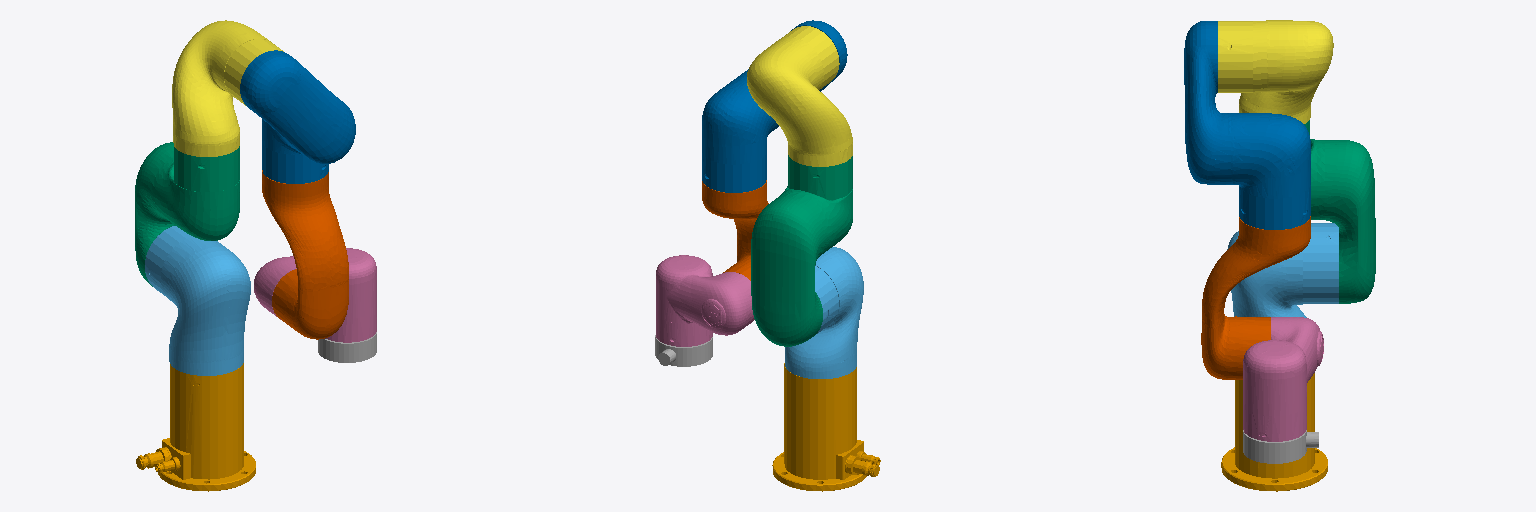
URDF robot description (xarm7):
<?xml version="1.0" ?>
<robot name="xarm7">
   <link name="link_base">
      <inertial>
         <origin xyz="-0.021131 -0.0016302 0.056488" rpy="0.44023105215876746 -0.1301362535007946 1.5177281818052935"/>
         <mass value="0.88556"/>
         <inertia ixx="0.00382023" iyy="0.00335282" izz="0.00167725" ixy="0" ixz="0" iyz="0"/>
      </inertial>
      <visual name="link_base">
         <origin xyz="-0.002330920659259287 7.635029826604813e-05 0.06466085765451927" rpy="0.051864352546477366 -0.00040942535987054107 1.5199482510605278"/>
         <geometry>
            <mesh filename="internavi/assets/assets/xarm7/link_base.stl"/>
         </geometry>
      </visual>
      <collision>
         <origin xyz="-0.002330920659259287 7.635029826604813e-05 0.06466085765451927" rpy="0.051864352546477366 -0.00040942535987054107 1.5199482510605278"/>
         <geometry>
            <mesh filename="internavi/assets/assets/xarm7/link_base.stl"/>
         </geometry>
      </collision>
   </link>
   
   <link name="link1">
      <inertial>
         <origin xyz="-0.0002 0.02905 -0.01233" rpy="-0.4080989784149497 -0.017863810427217963 -0.04272503237136302"/>
         <mass value="2.382"/>
         <inertia ixx="0.00569127" iyy="0.00533384" izz="0.00293865" ixy="0" ixz="0" iyz="0"/>
      </inertial>
      <visual name="link1">
         <origin xyz="-0.0001418553332473717 0.0074638475848720935 -0.02711420915765274" rpy="-0.3335973180073475 0.0043034379640525255 -0.0013704267832475303"/>
         <geometry>
            <mesh filename="internavi/assets/assets/xarm7/link1.stl"/>
         </geometry>
      </visual>
      <collision>
         <origin xyz="-0.0001418553332473717 0.0074638475848720935 -0.02711420915765274" rpy="-0.3335973180073475 0.0043034379640525255 -0.0013704267832475303"/>
         <geometry>
            <mesh filename="internavi/assets/assets/xarm7/link1.stl"/>
         </geometry>
      </collision>
   </link>

   <joint type="revolute" name="joint1">
      <parent link="link_base"/>
      <child link="link1"/>
      <origin xyz="0.0 0.0 0.267" rpy="0.0 0.0 0.0"/>
      <axis xyz="0.0 0.0 1.0"/>
      <limit lower="-6.28319" upper="6.28319" effort="50" velocity="3.14"/>
      <dynamics damping="10" friction="1"/>
   </joint>

   <link name="link2">
      <inertial>
         <origin xyz="0.00022 -0.12856 0.01735" rpy="2.089839775631659 -0.01617916364415617 -0.008620557950960617"/>
         <mass value="1.869"/>
         <inertia ixx="0.00959898" iyy="0.00937717" izz="0.00201315" ixy="0" ixz="0" iyz="0"/>
      </inertial>
      <visual name="link2">
         <origin xyz="-8.518079249929592e-05 -0.09124548913785831 0.04845536801044918" rpy="2.1639536091838565 -0.0020726553325203234 -0.001633118583858506"/>
         <geometry>
            <mesh filename="internavi/assets/assets/xarm7/link2.stl"/>
         </geometry>
      </visual>
      <collision>
         <origin xyz="-8.518079249929592e-05 -0.09124548913785831 0.04845536801044918" rpy="2.1639536091838565 -0.0020726553325203234 -0.001633118583858506"/>
         <geometry>
            <mesh filename="internavi/assets/assets/xarm7/link2.stl"/>
         </geometry>
      </collision>
   </link>
   
   <joint type="revolute" name="joint2">
      <parent link="link1"/>
      <child link="link2"/>
      <origin xyz="0.0 0.0 0.0" rpy="-1.5707963267948957 0.0 0.0"/>
      <axis xyz="0.0 0.0 1.0"/>
      <limit lower="-2.059" upper="2.0944" effort="50" velocity="3.14"/>
      <dynamics damping="10" friction="1"/>
   </joint>
   
   <link name="link3">
      <inertial>
         <origin xyz="0.0466 -0.02463 -0.00768" rpy="0.6444127540677473 0.5687517069246195 0.10346249911406036"/>
         <mass value="1.6383"/>
         <inertia ixx="0.00351721" iyy="0.00294089" izz="0.00195868" ixy="0" ixz="0" iyz="0"/>
      </inertial>
      <visual name="link3">
         <origin xyz="0.03116049140567881 0.0020180908913441306 -0.022566212798909326" rpy="0.40910176908308016 0.6031276066359279 0.26148088250700474"/>
         <geometry>
            <mesh filename="internavi/assets/assets/xarm7/link3.stl"/>
         </geometry>
      </visual>
      <collision>
         <origin xyz="0.03116049140567881 0.0020180908913441306 -0.022566212798909326" rpy="0.40910176908308016 0.6031276066359279 0.26148088250700474"/>
         <geometry>
            <mesh filename="internavi/assets/assets/xarm7/link3.stl"/>
         </geometry>
      </collision>
   </link>
   
   <joint type="revolute" name="joint3">
      <parent link="link2"/>
      <child link="link3"/>
      <origin xyz="0.0 -0.293 0.0" rpy="1.5707963267948963 0.0 0.0"/>
      <axis xyz="0.0 0.0 1.0"/>
      <limit lower="-6.28319" upper="6.28319" effort="30" velocity="3.14"/>
      <dynamics damping="5" friction="1"/>
   </joint>
   
   <link name="link4">
      <inertial>
         <origin xyz="0.07047 -0.11575 0.012" rpy="2.211979235177638 -0.629020395199348 0.029707593805708754"/>
         <mass value="1.7269"/>
         <inertia ixx="0.00657137" iyy="0.00647948" izz="0.00186763" ixy="0" ixz="0" iyz="0"/>
      </inertial>
      <visual name="link4">
         <origin xyz="0.05894856993202059 -0.07610492940771568 0.04029048800181529" rpy="2.138364865984172 0.1740691355031294 0.6641344305654312"/>
         <geometry>
            <mesh filename="internavi/assets/assets/xarm7/link4.stl"/>
         </geometry>
      </visual>
      <collision>
         <origin xyz="0.05894856993202059 -0.07610492940771568 0.04029048800181529" rpy="2.138364865984172 0.1740691355031294 0.6641344305654312"/>
         <geometry>
            <mesh filename="internavi/assets/assets/xarm7/link4.stl"/>
         </geometry>
      </collision>
   </link>
   
   <joint type="revolute" name="joint4">
      <parent link="link3"/>
      <child link="link4"/>
      <origin xyz="0.0525 0.0 0.0" rpy="1.5707963267948963 0.0 0.0"/>
      <axis xyz="0.0 0.0 1.0"/>
      <limit lower="-0.19198" upper="3.927" effort="30" velocity="3.14"/>
      <dynamics damping="5" friction="1"/>
   </joint>

   <link name="link5">
      <inertial>
         <origin xyz="-0.00032 0.01604 -0.026" rpy="-0.060862747127358625 0.002444739360476511 0.042364854361127045"/>
         <mass value="1.3203"/>
         <inertia ixx="0.00534729" iyy="0.00499076" izz="0.0013489" ixy="0" ixz="0" iyz="0"/>
      </inertial>
      <visual name="link5">
         <origin xyz="-0.0001655187184941466 0.0317918270067044 -0.07229184425357928" rpy="-0.2898391281315331 0.0037330573805807177 0.016070437312645958"/>
         <geometry>
            <mesh filename="internavi/assets/assets/xarm7/link5.stl"/>
         </geometry> 
      </visual>
      <collision>
         <origin xyz="-0.0001655187184941466 0.0317918270067044 -0.07229184425357928" rpy="-0.2898391281315331 0.0037330573805807177 0.016070437312645958"/>
         <geometry>
            <mesh filename="internavi/assets/assets/xarm7/link5.stl"/>
         </geometry>
      </collision>
   </link>
   <joint type="revolute" name="joint5">
      <parent link="link4"/>
      <child link="link5"/>
      <origin xyz="0.0775 -0.3425 0.0" rpy="1.5707963267948963 0.0 0.0"/>
      <axis xyz="0.0 0.0 1.0"/>
      <limit lower="-6.28319" upper="6.28319" effort="30" velocity="3.14"/>
      <dynamics damping="5" friction="1"/>
   </joint>

   <link name="link6">
      <inertial>
         <origin xyz="0.06469 0.03278 0.02141" rpy="-2.5954348069975257 -1.278629910190865 0.0043130309212413565"/>
         <mass value="1.325"/>
         <inertia ixx="0.00245421" iyy="0.00221646" izz="0.00107273" ixy="0" ixz="0" iyz="0"/>
      </inertial>
      <visual name="link6">
         <origin xyz="0.04899680629282065 0.011248594145888224 0.009047722000570012" rpy="-2.928036193060328 -1.2794502935065157 0.08501521097360687"/>
         <geometry>
            <mesh filename="internavi/assets/assets/xarm7/link6.stl"/>
         </geometry> 
      </visual>
      <collision>
         <origin xyz="0.04899680629282065 0.011248594145888224 0.009047722000570012" rpy="-2.928036193060328 -1.2794502935065157 0.08501521097360687"/>
         <geometry>
            <mesh filename="internavi/assets/assets/xarm7/link6.stl"/>
         </geometry>
      </collision>
   </link>
   <joint type="revolute" name="joint6">
      <parent link="link5"/>
      <child link="link6"/>
      <origin xyz="0.0 0.0 0.0" rpy="1.5707963267948963 0.0 0.0"/>
      <axis xyz="0.0 0.0 1.0"/>
      <limit lower="-1.69297" upper="3.14159" effort="20" velocity="3.14"/>
      <dynamics damping="2" friction="1"/>
   </joint>

   <link name="link7">
      <inertial>
         <origin xyz="0.0 -0.00677 -0.01098" rpy="3.141592653589793 -1.521839417373044 -1.5707963267948966"/>
         <mass value="0.17"/>
         <inertia ixx="0.000132176" iyy="9.3e-05" izz="5.85236e-05" ixy="0" ixz="0" iyz="0"/>
      </inertial>
      <visual name="end_tool">
         <origin xyz="3.414990570124057e-08 -0.0014353044722618057 -0.013516014737403683" rpy="3.141592653589793 -1.5687955761878776 -1.5707963267948966"/>
         <geometry>
            <mesh filename="internavi/assets/assets/xarm7/end_tool.stl"/>
         </geometry>
      </visual>
      <collision>
         <origin xyz="3.414990570124057e-08 -0.0014353044722618057 -0.013516014737403683" rpy="3.141592653589793 -1.5687955761878776 -1.5707963267948966"/>
         <geometry>
            <mesh filename="internavi/assets/assets/xarm7/end_tool.stl"/>
         </geometry>
      </collision>
   </link>

   <joint type="revolute" name="joint7">
      <parent link="link6"/>
      <child link="link7"/>
      <origin xyz="0.076 0.097 0.0" rpy="-1.5707963267948957 0.0 0.0"/>
      <axis xyz="0.0 0.0 1.0"/>
      <limit lower="-6.28319" upper="6.28319" effort="20" velocity="3.14"/>
      <dynamics damping="2" friction="1"/>
   </joint>

   <link name="tcp"/>

   <joint name="joint_tcp" type="fixed">
      <origin xyz="0 0 0.172" rpy="0 0 0"/>  
      <parent link="xarm_gripper_base_link"/>
      <child link="tcp"/>
   </joint>

   <!-- from https://github.com/xArm-Developer/xarm_ros/blob/master/xarm_description/urdf/gripper/xarm_gripper.urdf.xacro -->
   <!-- XArm Gripper Start -->
   <link name="xarm_gripper_base_link">
      <inertial>
         <origin xyz="-0.00065489 -0.0018497 0.048028" rpy="0 0 0"/>
         <mass value="0.54156"/>
         <inertia ixx="0.00047106" ixy="3.9292E-07" ixz="2.6537E-06" iyy="0.00033072" iyz="-1.0975E-05" izz="0.00025642"/>
      </inertial>
      <visual>
         <origin xyz="0 0 0" rpy="0 0 0"/>
         <geometry>
            <mesh filename="internavi/assets/assets/xarm7/base_link.stl"/>
         </geometry>
         <material name="White">
            <color rgba="1.0 1.0 1.0 1.0"/>
         </material>
      </visual>
      <collision>
         <origin xyz="0 0 0" rpy="0 0 0"/>
         <geometry>
            <mesh filename="internavi/assets/assets/xarm7/base_link.stl"/>
         </geometry>
      </collision>
   </link>

   <joint name="gripper_fix" type="fixed">
      <parent link="link7"/>
      <child link="xarm_gripper_base_link"/>
      <origin xyz="0 0 0" rpy="0 0 0"/>
   </joint>

   <link name="left_outer_knuckle">
      <inertial>
         <origin xyz="2.9948E-14 0.021559 0.015181" rpy="0 0 0"/>
         <mass value="0.033618"/>
         <inertia ixx="1.9111E-05" ixy="-1.8803E-17" ixz="-1.1002E-17" iyy="6.6256E-06" iyz="-7.3008E-06" izz="1.3185E-05"/>
      </inertial>
      <visual>
         <origin xyz="0 0 0" rpy="0 0 0"/>
         <geometry>
            <mesh filename="internavi/assets/assets/xarm7/left_outer_knuckle.stl"/>
         </geometry>
         <material name="Silver">
            <color rgba="0.753 0.753 0.753 1.0"/>
         </material>
      </visual>
      <collision>
         <origin xyz="0 0 0" rpy="0 0 0"/>
         <geometry>
            <mesh filename="internavi/assets/assets/xarm7/left_outer_knuckle.stl"/>
         </geometry>
      </collision>
   </link>

   <link name="left_finger">
      <inertial>
         <origin xyz="-2.4536E-14 -0.016413 0.029258" rpy="0 0 0"/>
         <mass value="0.048304"/>
         <inertia ixx="1.7493E-05" ixy="-4.2156E-19" ixz="6.9164E-18" iyy="1.7225E-05" iyz="4.6433E-06" izz="5.1466E-06"/>
      </inertial>
      <visual>
         <origin xyz="0 0 0" rpy="0 0 0"/>
         <geometry>
            <mesh filename="internavi/assets/assets/xarm7/left_finger.stl"/>
         </geometry>
         <material name="Silver">
            <color rgba="0.753 0.753 0.753 1.0"/>
         </material>
      </visual>
      <collision>
         <origin xyz="0 0 0" rpy="0 0 0"/>
         <geometry>
            <mesh filename="internavi/assets/assets/xarm7/left_finger.stl"/>
         </geometry>
      </collision>
   </link>

   <link name="left_inner_knuckle">
      <inertial>
         <origin xyz="1.866E-06 0.022047 0.026133" rpy="0 0 0"/>
         <mass value="0.023013"/>
         <inertia ixx="6.0949E-06" ixy="6.0665E-11" ixz="7.191E-11" iyy="6.0197E-06" iyz="-2.7531E-06" izz="5.0784E-06"/>
      </inertial>
      <visual>
         <origin xyz="0 0 0" rpy="0 0 0"/>
         <geometry>
            <mesh filename="internavi/assets/assets/xarm7/left_inner_knuckle.stl"/>
         </geometry>
         <material name="Silver">
            <color rgba="0.753 0.753 0.753 1.0"/>
         </material>
      </visual>
      <collision>
         <origin xyz="0 0 0" rpy="0 0 0"/>
         <geometry>
            <mesh filename="internavi/assets/assets/xarm7/left_inner_knuckle.stl"/>
         </geometry>
      </collision>
   </link>

   <link name="right_outer_knuckle">
      <inertial>
         <origin xyz="-3.1669E-14 -0.021559 0.015181" rpy="0 0 0"/>
         <mass value="0.033618"/>
         <inertia ixx="1.9111E-05" ixy="-1.8789E-17" ixz="1.0986E-17" iyy="6.6256E-06" iyz="7.3008E-06" izz="1.3185E-05"/>
      </inertial>
      <visual>
         <origin xyz="0 0 0" rpy="0 0 0"/>
         <geometry>
            <mesh filename="internavi/assets/assets/xarm7/right_outer_knuckle.stl"/>
         </geometry>
         <material name="Silver">
            <color rgba="0.753 0.753 0.753 1.0"/>
         </material>
      </visual>
      <collision>
         <origin xyz="0 0 0" rpy="0 0 0"/>
         <geometry>
            <mesh filename="internavi/assets/assets/xarm7/right_outer_knuckle.stl"/>
         </geometry>
      </collision>
   </link>

   <link name="right_finger">
      <inertial>
         <origin xyz="2.5618E-14 0.016413 0.029258" rpy="0 0 0"/>
         <mass value="0.048304"/>
         <inertia ixx="1.7493E-05" ixy="-5.0014E-19" ixz="-7.5079E-18" iyy="1.7225E-05" iyz="-4.6435E-06" izz="5.1466E-06"/>
      </inertial>
      <visual>
         <origin xyz="0 0 0" rpy="0 0 0"/>
         <geometry>
            <mesh filename="internavi/assets/assets/xarm7/right_finger.stl"/>
         </geometry>
         <material name="Silver">
            <color rgba="0.753 0.753 0.753 1.0"/>
         </material>
      </visual>
      <collision>
         <origin xyz="0 0 0" rpy="0 0 0"/>
         <geometry>
            <mesh filename="internavi/assets/assets/xarm7/right_finger.stl"/>
         </geometry>
      </collision>
   </link>

   <link name="right_inner_knuckle">
      <inertial>
         <origin xyz="1.866E-06 -0.022047 0.026133" rpy="0 0 0"/>
         <mass value="0.023013"/>
         <inertia ixx="6.0949E-06" ixy="-6.0665E-11" ixz="7.191E-11" iyy="6.0197E-06" iyz="2.7531E-06" izz="5.0784E-06"/>
      </inertial>
      <visual>
         <origin xyz="0 0 0" rpy="0 0 0"/>
         <geometry>
            <mesh filename="internavi/assets/assets/xarm7/right_inner_knuckle.stl"/>
         </geometry>
         <material name="Silver">
            <color rgba="0.753 0.753 0.753 1.0"/>
         </material>
      </visual>
      <collision>
         <origin xyz="0 0 0" rpy="0 0 0"/>
         <geometry>
            <mesh filename="internavi/assets/assets/xarm7/right_inner_knuckle.stl"/>
         </geometry>
      </collision>
   </link>

   <joint name="left_drive_joint" type="revolute">
      <origin xyz="0 0.035 0.059098" rpy="0 0 0"/>
      <parent link="xarm_gripper_base_link"/>
      <child link="left_outer_knuckle"/>
      <axis xyz="1 0 0"/>
      <limit lower="0" upper="0.85" effort="50" velocity="2"/>
   </joint>

   <joint name="left_finger_joint" type="revolute">
      <origin xyz="0 0.035465 0.042039" rpy="0 0 0"/>
      <parent link="left_outer_knuckle"/>
      <child link="left_finger"/>
      <axis xyz="-1 0 0"/>
      <limit lower="0" upper="0.85" effort="50" velocity="2"/>
   </joint>

   <joint name="left_inner_knuckle_joint" type="revolute">
      <origin xyz="0 0.02 0.074098" rpy="0 0 0"/>
      <parent link="xarm_gripper_base_link"/>
      <child link="left_inner_knuckle"/>
      <axis xyz="1 0 0"/>
      <limit lower="0" upper="0.85" effort="50" velocity="2"/>
   </joint>

   <joint name="right_drive_joint" type="revolute">
      <origin xyz="0 -0.035 0.059098" rpy="0 0 0"/>
      <parent link="xarm_gripper_base_link"/>
      <child link="right_outer_knuckle"/>
      <axis xyz="-1 0 0"/>
      <limit lower="0" upper="0.85" effort="50" velocity="2"/>
   </joint>

   <joint name="right_finger_joint" type="revolute">
      <origin xyz="0 -0.035465 0.042039" rpy="0 0 0"/>
      <parent link="right_outer_knuckle"/>
      <child link="right_finger"/>
      <axis xyz="1 0 0"/>
      <limit lower="0" upper="0.85" effort="50" velocity="2"/>
   </joint>

   <joint name="right_inner_knuckle_joint" type="revolute">
      <origin xyz="0 -0.02 0.074098" rpy="0 0 0"/>
      <parent link="xarm_gripper_base_link"/>
      <child link="right_inner_knuckle"/>
      <axis xyz="-1 0 0"/>
      <limit lower="0" upper="0.85" effort="50" velocity="2"/>
   </joint>

</robot>

--- Render facts (derived) ---
Views: 3 orthographic renders of the robot side by side, from view 1: azimuth 30°, elevation 25°; view 2: azimuth 150°, elevation 25°; view 3: azimuth 270°, elevation 25°.
Robot: xarm7 — 16 links, 15 joints (13 revolute, 2 fixed); root link link_base; default pose: every joint at zero.
Links seen in each view (by area): view 1: link1, link4, link5, link_base, link3, link2, link6, link7; view 2: link2, link3, link_base, link4, link6, link1, link5, link7; view 3: link4, link3, link2, link6, link5, link1, link_base, link7.
Link boxes in pixels (x1=…): link1: x1=145, y1=226, x2=250, y2=375; link4: x1=240, y1=50, x2=355, y2=183; link5: x1=262, y1=170, x2=348, y2=339; link_base: x1=136, y1=363, x2=255, y2=491; link3: x1=172, y1=20, x2=283, y2=156; link2: x1=135, y1=142, x2=239, y2=286; link6: x1=254, y1=248, x2=376, y2=342; link7: x1=318, y1=332, x2=376, y2=362; link2: x1=751, y1=155, x2=852, y2=346; link3: x1=747, y1=26, x2=852, y2=166; link_base: x1=772, y1=363, x2=880, y2=491; link4: x1=702, y1=20, x2=847, y2=192; link6: x1=656, y1=255, x2=754, y2=346; link1: x1=785, y1=247, x2=863, y2=378; link5: x1=702, y1=180, x2=768, y2=280; link7: x1=655, y1=335, x2=712, y2=366; link4: x1=1184, y1=21, x2=1310, y2=229; link3: x1=1218, y1=20, x2=1333, y2=123; link2: x1=1304, y1=120, x2=1375, y2=303; link6: x1=1243, y1=317, x2=1323, y2=441; link5: x1=1201, y1=216, x2=1310, y2=379; link1: x1=1227, y1=223, x2=1338, y2=317; link_base: x1=1221, y1=373, x2=1327, y2=491; link7: x1=1243, y1=430, x2=1318, y2=463.
Size in the robot's own frame: 0.336 by 0.2259 by 0.6028 metres.
8 mesh visuals loaded from 15 distinct referenced files (8 binary STL); not drawn: 7 (reference not matched to a file when rendering).